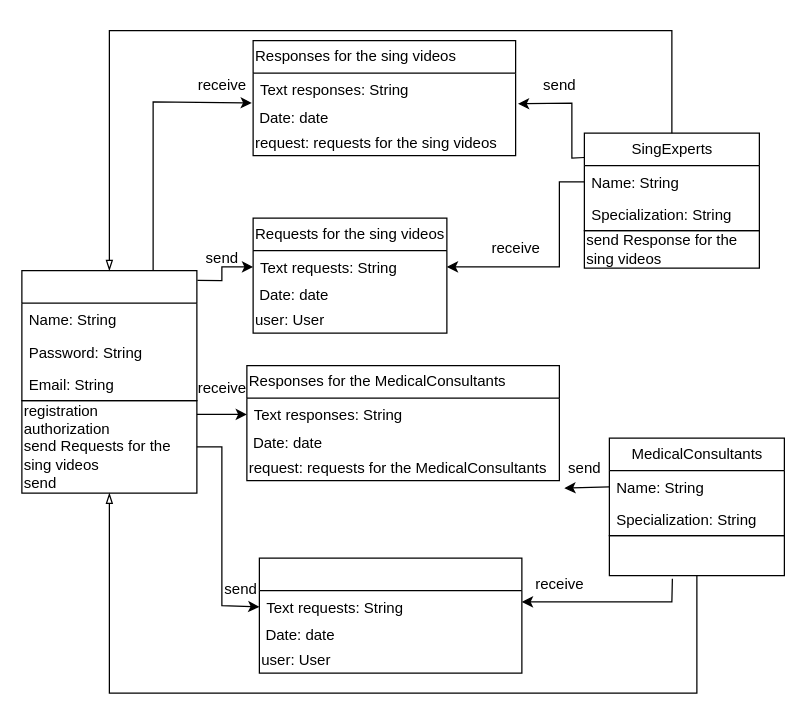
Image size: 806x725. Some labels were removed from this diagram. The box of each missing label's shape, as (x1, y1, x2, y2) in pixels:
Requests for the MedicalConsultants: (258, 557, 522, 673)
send Responses for the MedicalConsultants: (608, 534, 784, 576)
User: (21, 269, 197, 401)
